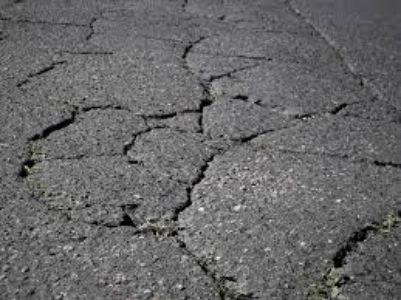alligator-crack: (13, 45, 278, 227)
crack: (316, 209, 401, 300), (160, 224, 261, 300), (277, 95, 401, 125), (277, 144, 401, 171), (0, 11, 101, 42), (317, 42, 375, 90), (286, 0, 326, 38)
